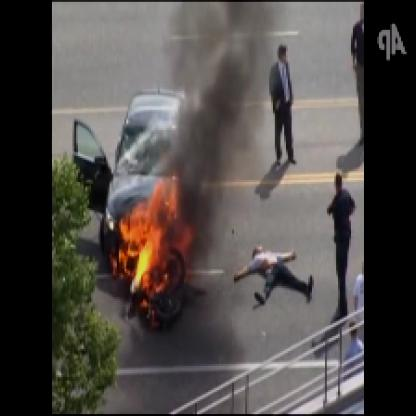Fire: (111, 176, 197, 304)
Smoke: (154, 2, 286, 238)
